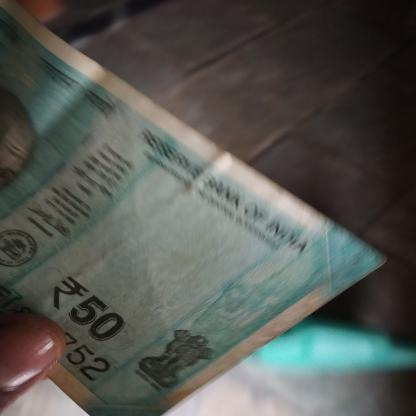New50Front: (0, 5, 276, 415)
